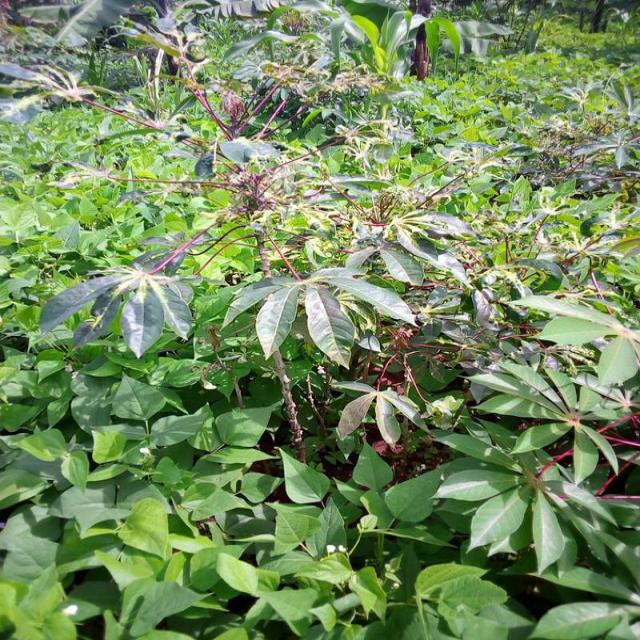cassava leaf: (1, 1, 638, 638), (38, 241, 196, 358)
